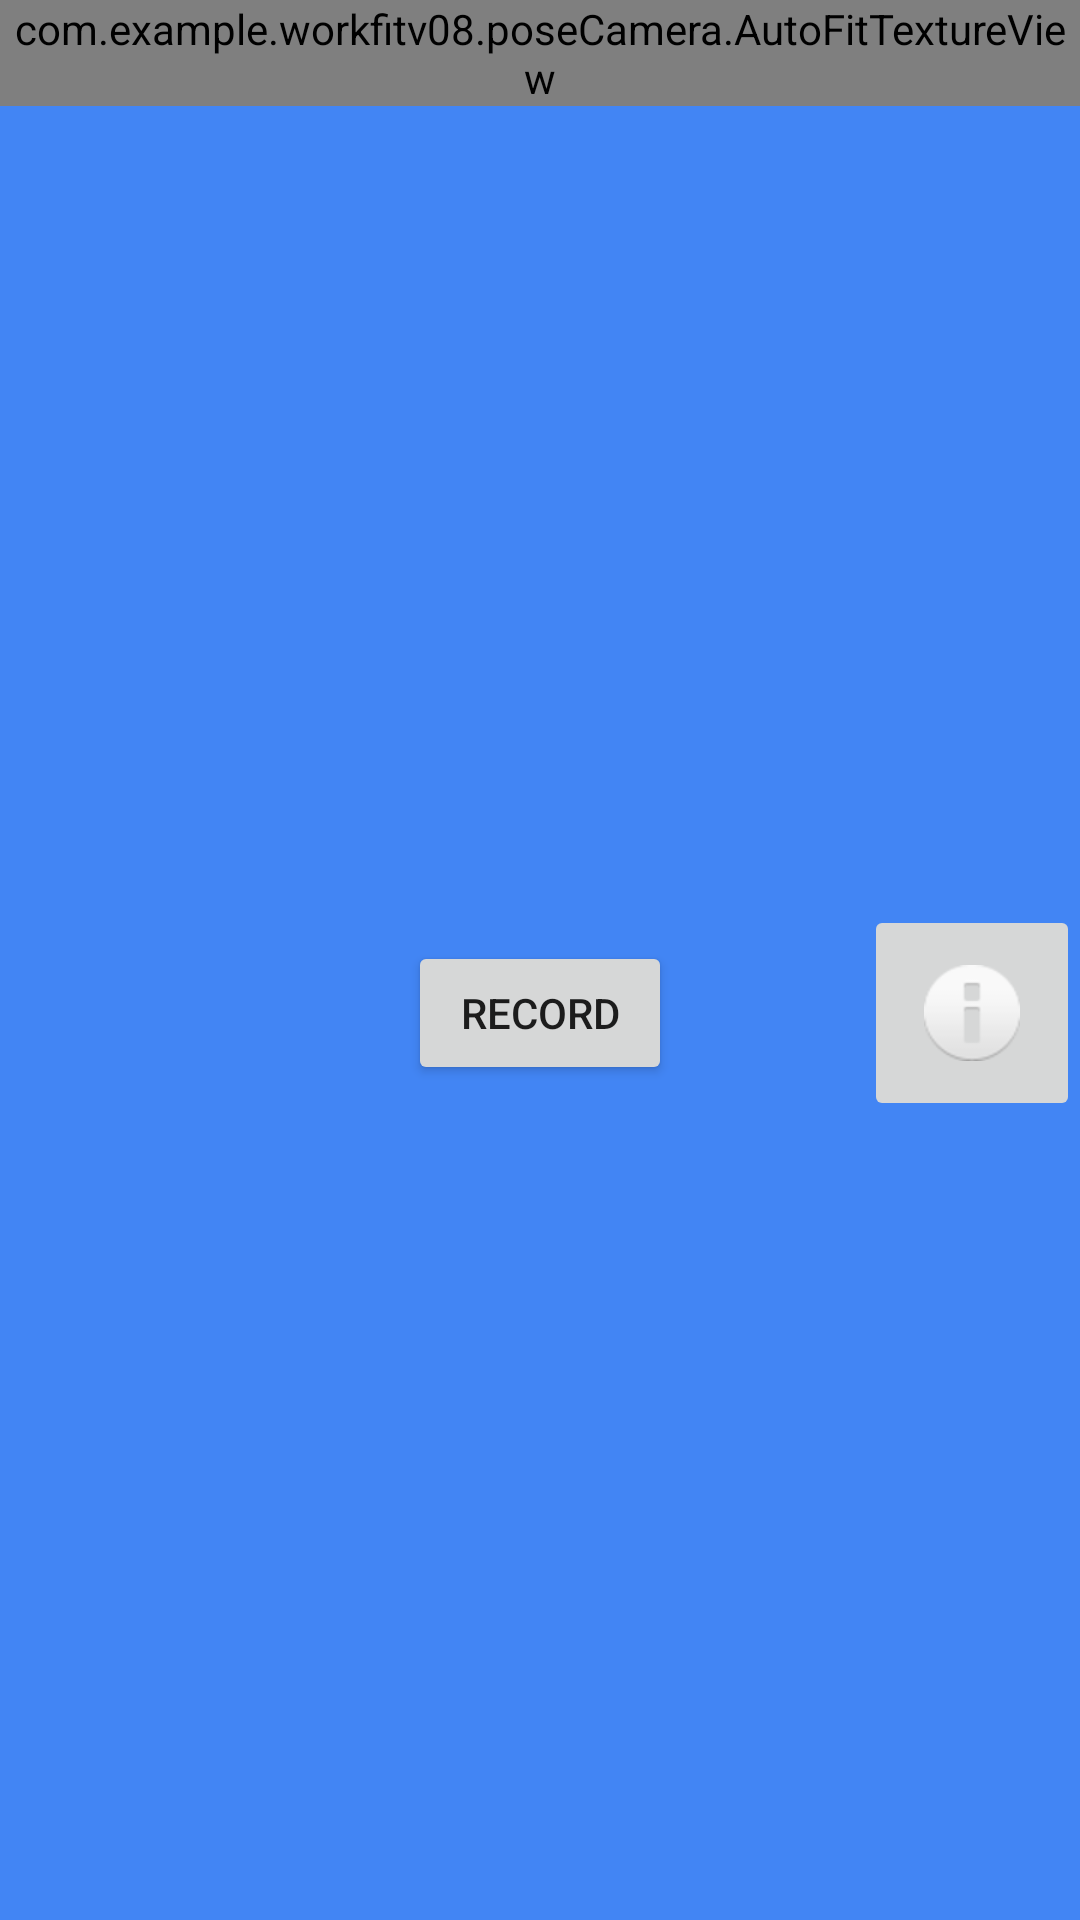

Named icons in this screenshot (1080 × 1920) and their bounding boxes, [left=x1, top=y1, right=x2, bottom=y2]:
Info: [left=876, top=923, right=1068, bottom=1103]
